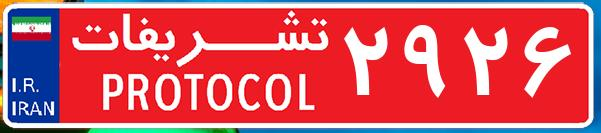2: (340, 20, 400, 115), (460, 20, 520, 115)
6: (520, 20, 580, 115)
9: (400, 20, 460, 115)
تشریفات: (60, 8, 340, 125)
